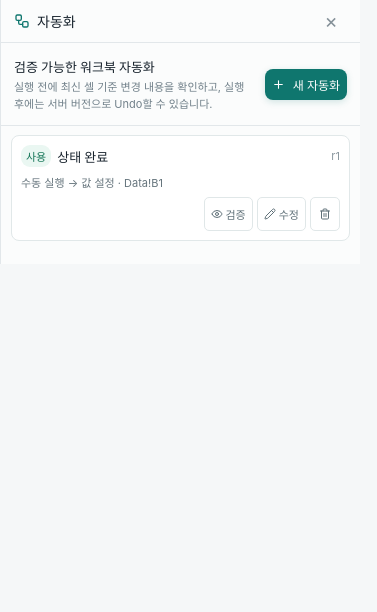
Test: AutomationPanel › treats an empty preview as a successful no-op and disables execution
Click the button "검증": click(228, 214) [204,197,253,231]
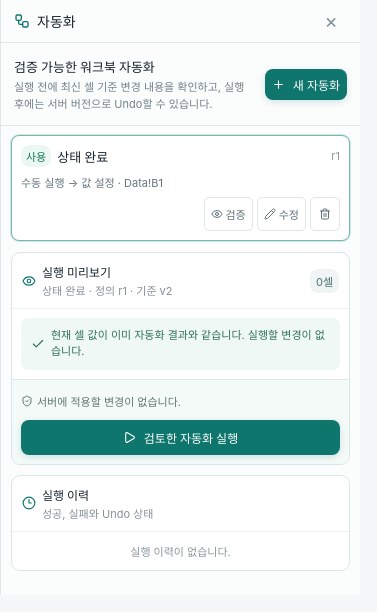
Expected: the text "현재 셀 값이 이미 자동화 결과와 같습니다. 실행할 변경이 없습니다." is shown, [21,318,340,370]
Expected: the button "검토한 자동화 실행" is disabled, [21,420,340,455]
